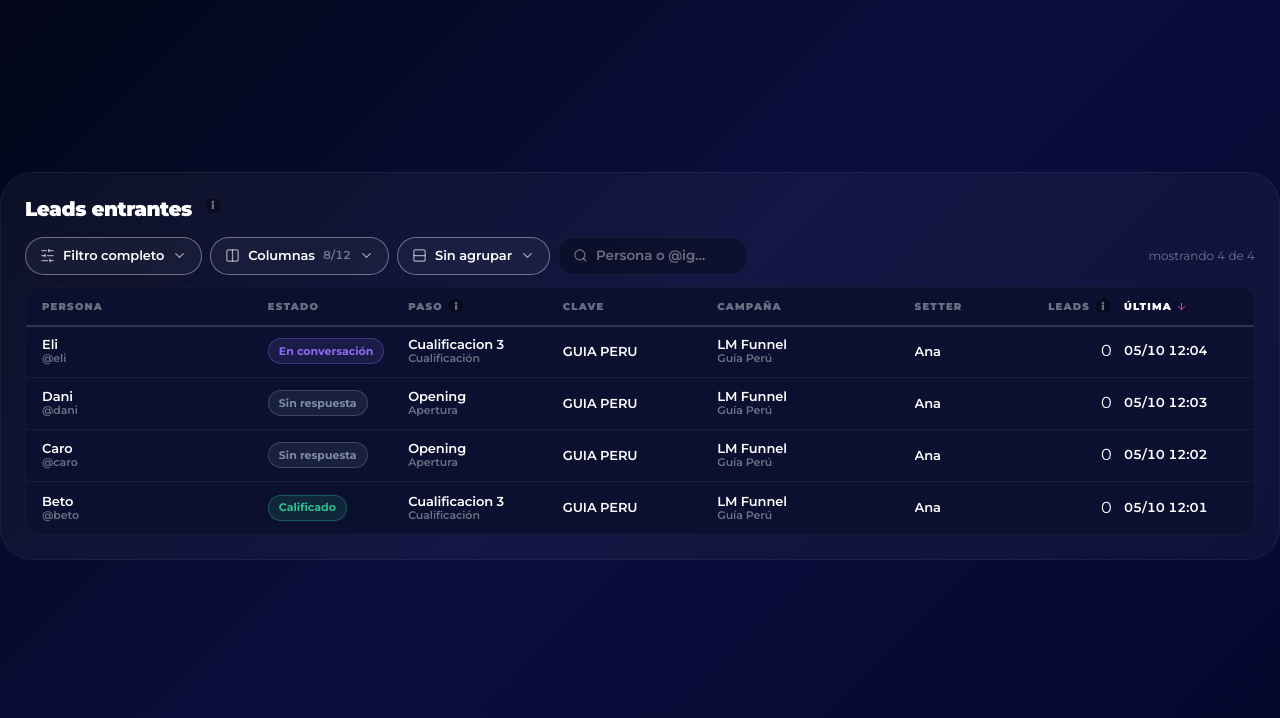
Marketing › Entrantes › el historial dice qué pasó: inicio, envío y respuesta (también la pegada al envío), sin «Webhook»
This screenshot has width=1280, height=718.
Click the text "Caro" at (57, 448), box [42,440,73,456]
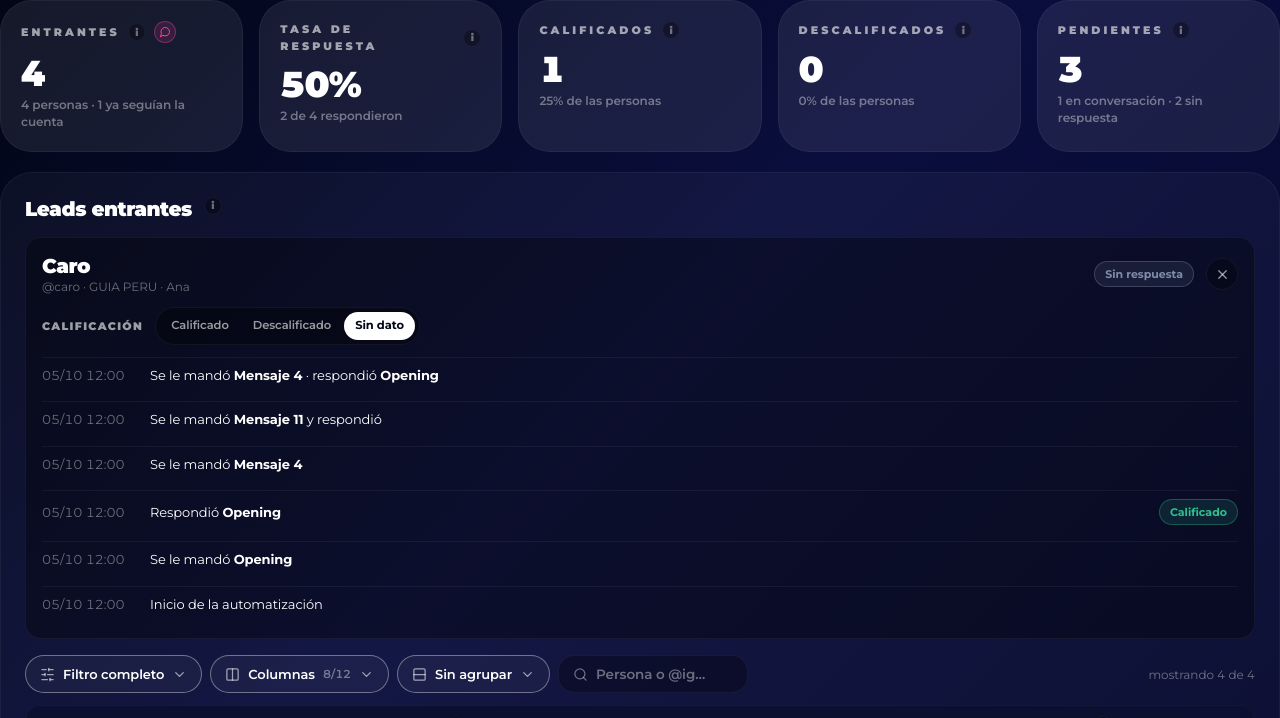
Expected: the text "Inicio de la automatización" is shown, [150,596,323,612]
